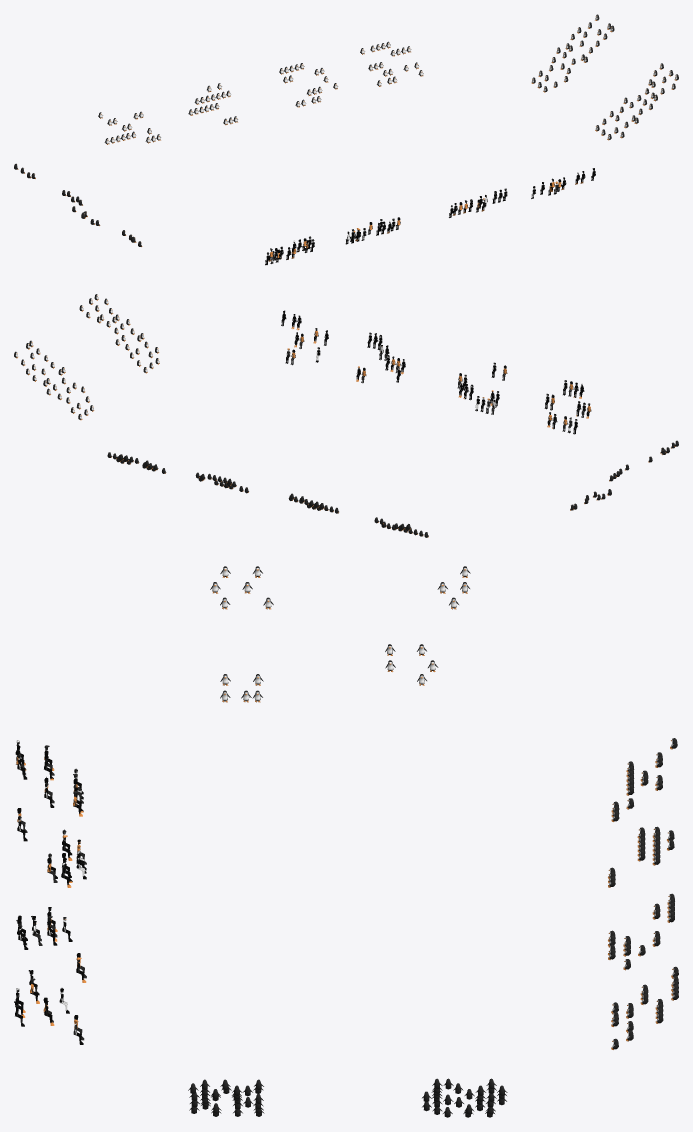
Rendered from GoopBlock3.gltf.
The picture shows the model from 3 angles, top to bottom: view 1: azimuth 30°, elevation 25°; view 2: azimuth 150°, elevation 25°; view 3: azimuth 270°, elevation 25°; orthographic projection. The views are drawn at different scales.
Visible parts, largest first — view 1: GoopieBlock3; view 2: GoopieBlock3; view 3: GoopieBlock3.
Part boxes in pixels (x1,y1,x2,y2): GoopieBlock3: (14,14,678,265); GoopieBlock3: (14,294,678,537); GoopieBlock3: (14,566,678,1117).
Size of the model in its own units: 67.79 by 6.3 by 36.94.
Materials: 1 (1 with a texture image).
